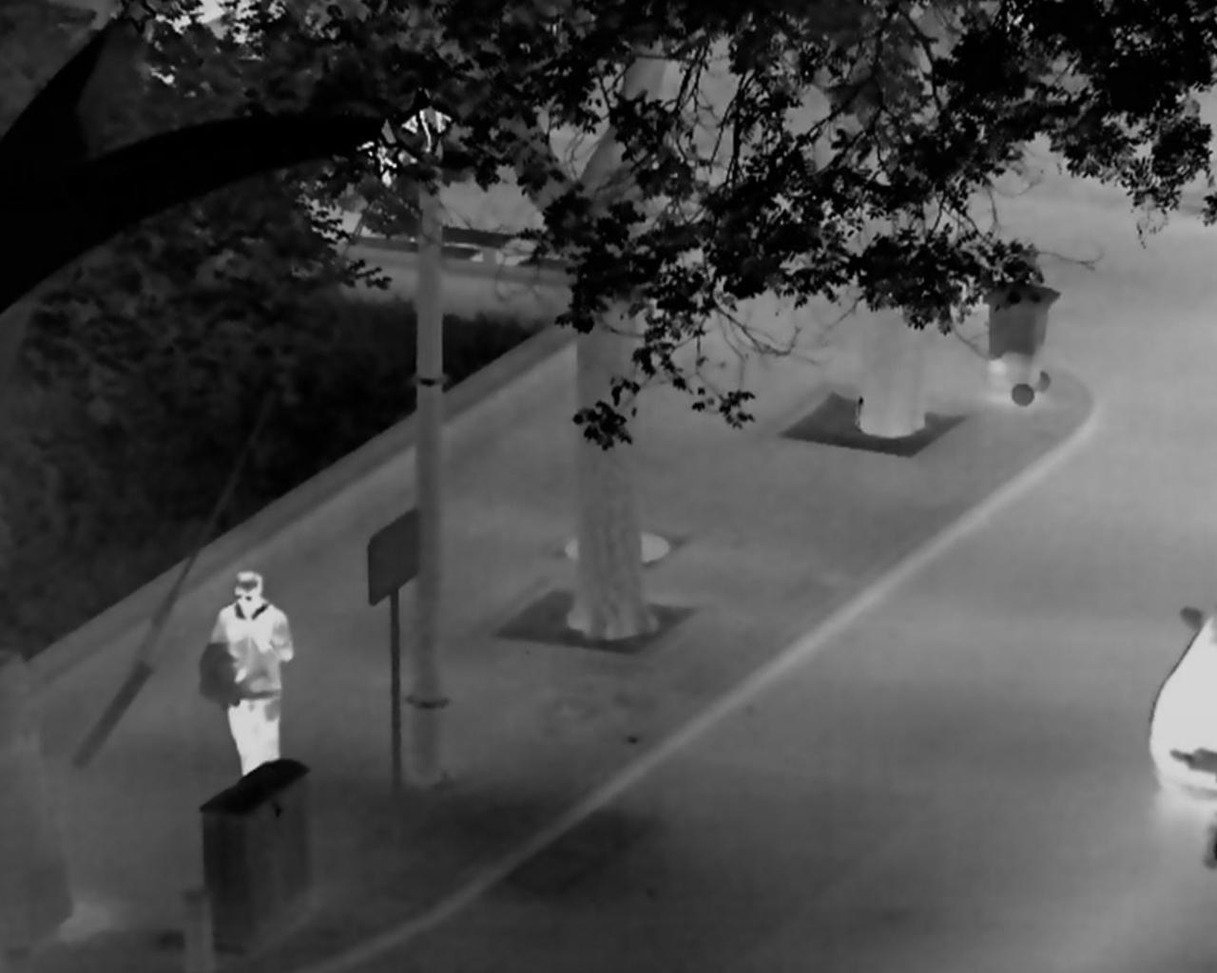person: (207, 570, 292, 777)
